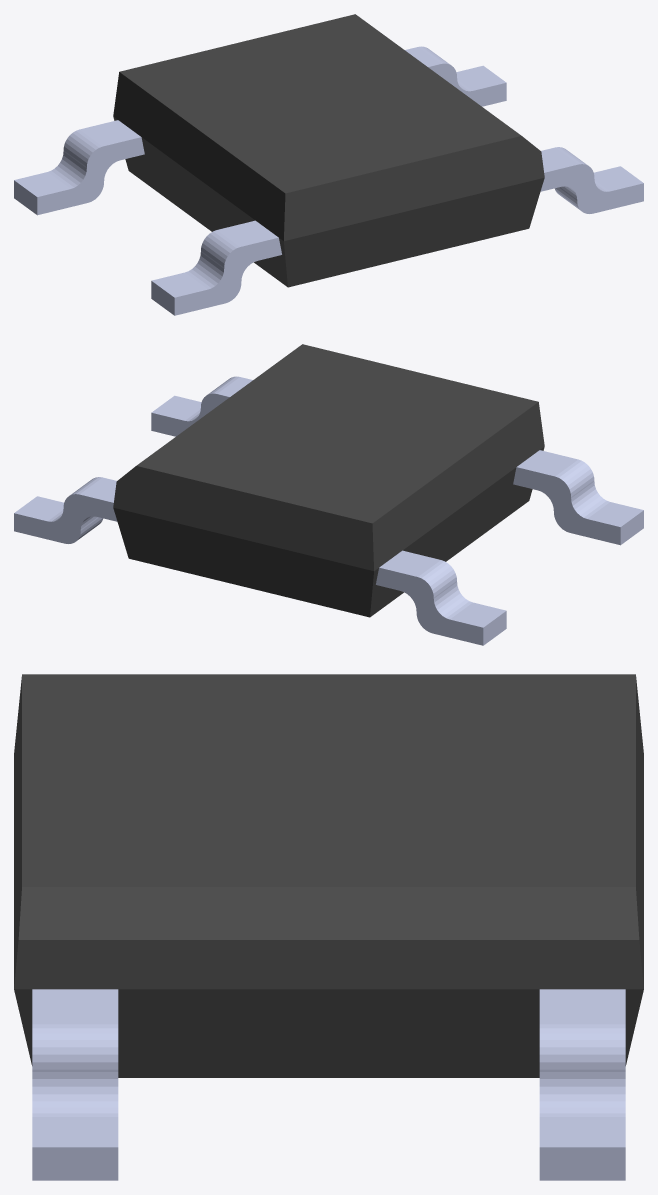
The model's file is abs4.obj.
3 renders of one model, top to bottom at view 1: azimuth 30°, elevation 25°; view 2: azimuth 150°, elevation 25°; view 3: azimuth 270°, elevation 25°, orthographic. The views are drawn at different scales.
Parts seen in each view (by area): view 1: abs4; view 2: abs4; view 3: abs4.
Boxes of the visible parts, x1,y1,x2,y2 form: abs4: (14,14,643,315); abs4: (14,344,643,645); abs4: (14,674,643,1180).
Bounding box in the file's own units: 0.028 × 0.00559 × 0.0176.
